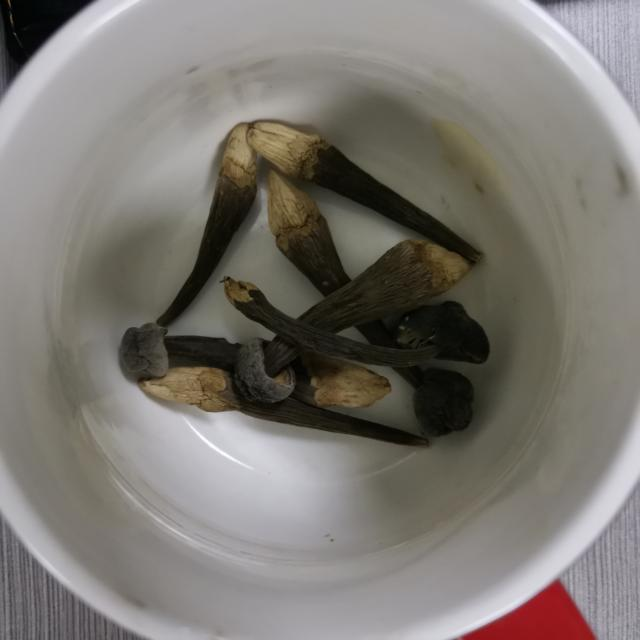Collybia albuminosa: (118, 110, 488, 442)
